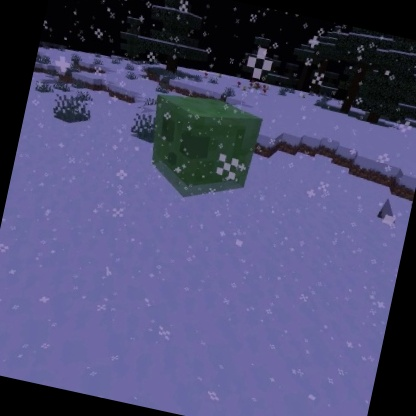slime: (135, 82, 269, 215)
